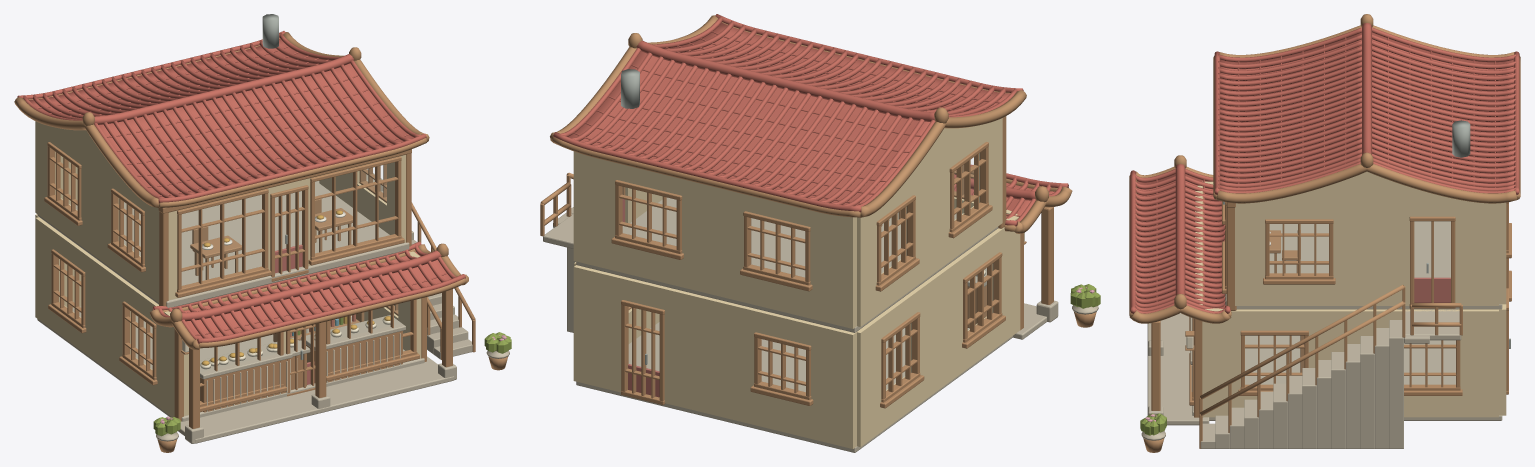
3 renders of one model, left to right at view 1: azimuth 30°, elevation 25°; view 2: azimuth 150°, elevation 25°; view 3: azimuth 270°, elevation 25°, orthographic. The views are drawn at different scales.
Visible parts, largest first — view 1: SM_27_02_曲面屋顶, SM_27_01_建筑墙体, SM_27_04_门窗楼梯, SM_27_06_景观设施, SM_27_03_木构回廊, SM_27_05_景观植物; view 2: SM_27_01_建筑墙体, SM_27_02_曲面屋顶, SM_27_04_门窗楼梯, SM_27_03_木构回廊, SM_27_05_景观植物; view 3: SM_27_02_曲面屋顶, SM_27_01_建筑墙体, SM_27_04_门窗楼梯, SM_27_03_木构回廊, SM_27_05_景观植物, SM_27_06_景观设施.
Boxes of the visible parts, x1,y1,x2,y2 form: SM_27_02_曲面屋顶: [14, 14, 468, 350]; SM_27_01_建筑墙体: [35, 121, 454, 443]; SM_27_04_门窗楼梯: [44, 142, 475, 412]; SM_27_06_景观设施: [190, 198, 405, 412]; SM_27_03_木构回廊: [158, 149, 456, 443]; SM_27_05_景观植物: [153, 332, 511, 452]; SM_27_01_建筑墙体: [573, 118, 1047, 452]; SM_27_02_曲面屋顶: [550, 14, 1072, 233]; SM_27_04_门窗楼梯: [540, 142, 1026, 408]; SM_27_03_木构回廊: [998, 116, 1058, 330]; SM_27_05_景观植物: [1070, 284, 1100, 327]; SM_27_02_曲面屋顶: [1129, 14, 1520, 323]; SM_27_01_建筑墙体: [1147, 171, 1506, 425]; SM_27_04_门窗楼梯: [1185, 201, 1511, 448]; SM_27_03_木构回廊: [1148, 187, 1236, 417]; SM_27_05_景观植物: [1140, 413, 1166, 452]; SM_27_06_景观设施: [1190, 230, 1304, 391].
Size of the model in its own units: 10.72 by 7.6 by 9.55.
